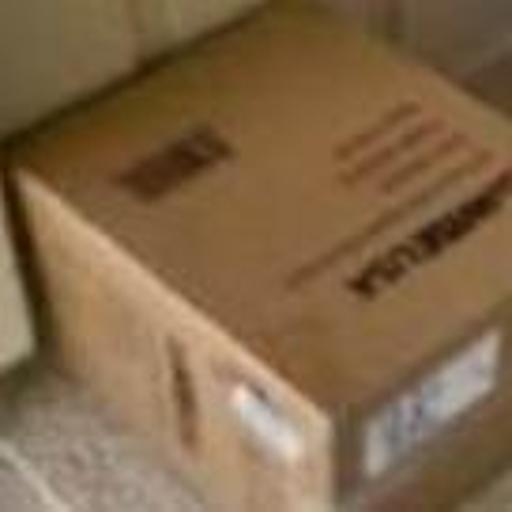Other: (0, 0, 512, 510)
